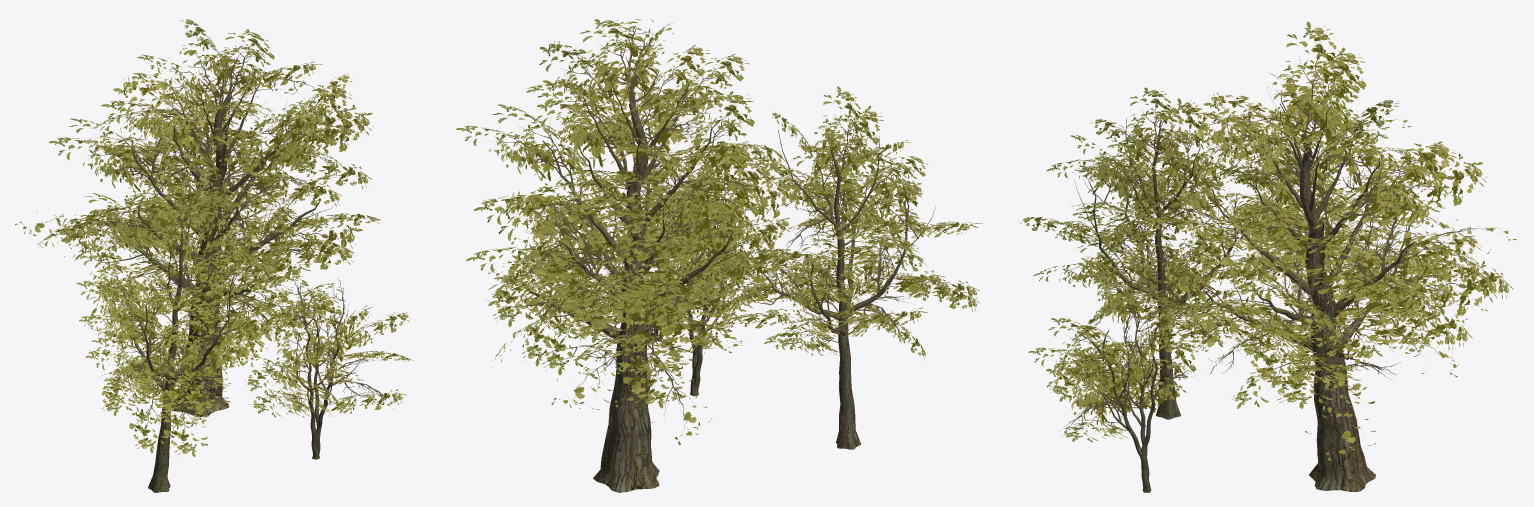
The model's file is tree-oak-realistic.glb.
The picture shows the model from 3 angles, left to right: view 1: azimuth 30°, elevation 25°; view 2: azimuth 150°, elevation 25°; view 3: azimuth 270°, elevation 25°; orthographic projection. The views are drawn at different scales.
Visible parts, largest first — view 1: treelarge, Treemedium, leafplanes_4_23, leafplanes_4_7, leafplanes_4_39, leafplanes_10_3, Treesmall, leafplanes_4_13_2, leafplanes_3, leafplanes_4_13_3_40_2, leafplanes_4_13_3_67, leafplanes_4_55 (+74 smaller); view 2: treelarge, Treemedium, leafplanes_10_195, leafplanes_4_13, leafplanes_10_177, leafplanes_4_38, leafplanes_4_6, leafplanes_10_108, leafplanes_10_117, leafplanes_10_9, leafplanes_4_55, leafplanes_4_58 (+69 smaller); view 3: treelarge, Treemedium, leafplanes_4_13_3, Treesmall, leafplanes_4_60, leafplanes_4_13_1, leafplanes_4_52, leafplanes_10_93_1, leafplanes_4_41, leafplanes_10_78, leafplanes_10_114, leafplanes_4_37 (+75 smaller).
Part boxes in pixels (box(x1,y1,x2,y2)): treelarge: box(80, 53, 338, 416); Treemedium: box(123, 189, 255, 492); leafplanes_4_23: box(113, 77, 214, 156); leafplanes_4_7: box(260, 212, 362, 266); leafplanes_4_39: box(222, 102, 326, 168); leafplanes_10_3: box(152, 150, 221, 217); Treesmall: box(288, 292, 374, 459); leafplanes_4_13_2: box(209, 29, 274, 93); leafplanes_3: box(66, 195, 168, 249); leafplanes_4_13_3_40_2: box(156, 384, 212, 457); leafplanes_4_13_3_67: box(128, 377, 181, 453); leafplanes_4_55: box(253, 106, 356, 170); treelarge: box(485, 56, 760, 492); Treemedium: box(740, 130, 935, 449); leafplanes_10_195: box(616, 325, 692, 408); leafplanes_4_13: box(580, 19, 661, 99); leafplanes_10_177: box(493, 243, 578, 326); leafplanes_4_38: box(631, 271, 731, 353); leafplanes_4_6: box(494, 191, 611, 287); leafplanes_10_108: box(598, 165, 675, 236); leafplanes_10_117: box(522, 277, 607, 366); leafplanes_10_9: box(663, 148, 750, 232); leafplanes_4_55: box(538, 78, 635, 171); leafplanes_4_58: box(492, 104, 587, 189); treelarge: box(1174, 87, 1435, 491); Treemedium: box(1074, 118, 1241, 419); leafplanes_4_13_3: box(1273, 21, 1348, 134); Treesmall: box(1087, 311, 1162, 492); leafplanes_4_60: box(1343, 144, 1454, 211); leafplanes_4_13_1: box(1288, 47, 1366, 139); leafplanes_4_52: box(1365, 153, 1487, 224); leafplanes_10_93_1: box(1203, 92, 1304, 165); leafplanes_4_41: box(1390, 261, 1501, 323); leafplanes_10_78: box(1231, 232, 1310, 300); leafplanes_10_114: box(1196, 207, 1280, 277); leafplanes_4_37: box(1275, 355, 1361, 408).
Size of the model in its own units: 1.97 by 2.04 by 2.08.
2 materials, 2 textured.
